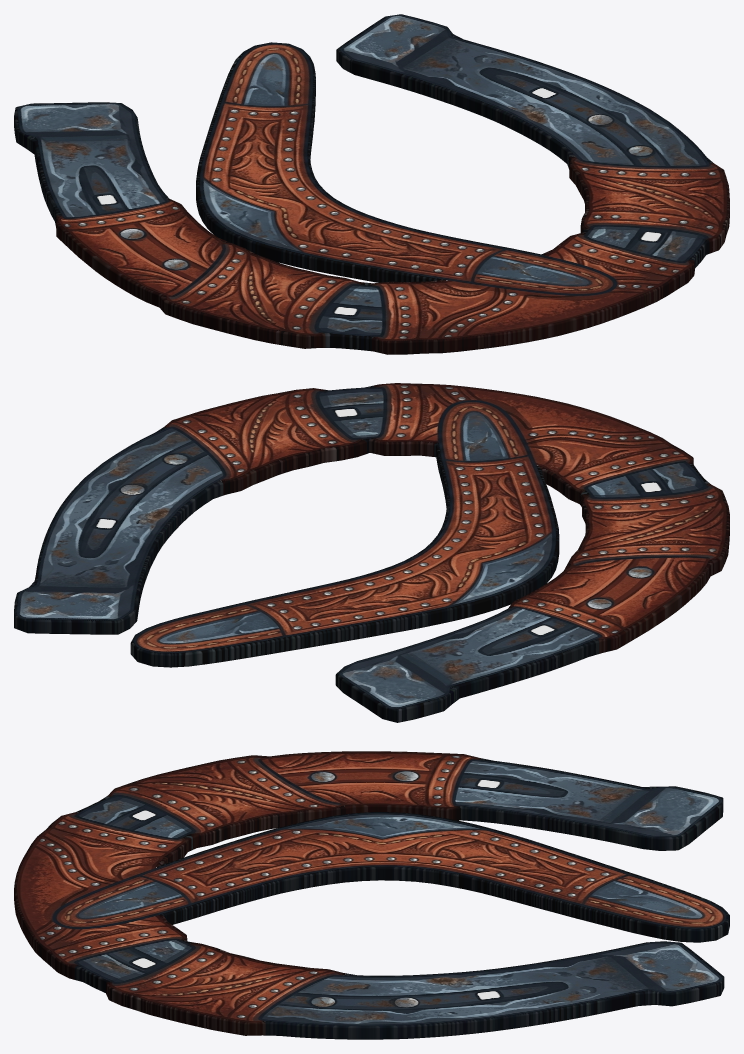
Rendered from Boomerang_15.fbx.
The picture shows the model from 3 angles, top to bottom: view 1: azimuth 30°, elevation 25°; view 2: azimuth 150°, elevation 25°; view 3: azimuth 270°, elevation 25°; orthographic projection.
Parts seen in each view (by area): view 1: Boomerang_15; view 2: Boomerang_15; view 3: Boomerang_15.
Boxes of the visible parts, x1,y1,x2,y2 form: Boomerang_15: (14, 14, 729, 354); Boomerang_15: (14, 383, 729, 722); Boomerang_15: (14, 751, 729, 1039).
Size of the model in its own units: 188 by 4.2 by 206.
1 material, 1 textured.
